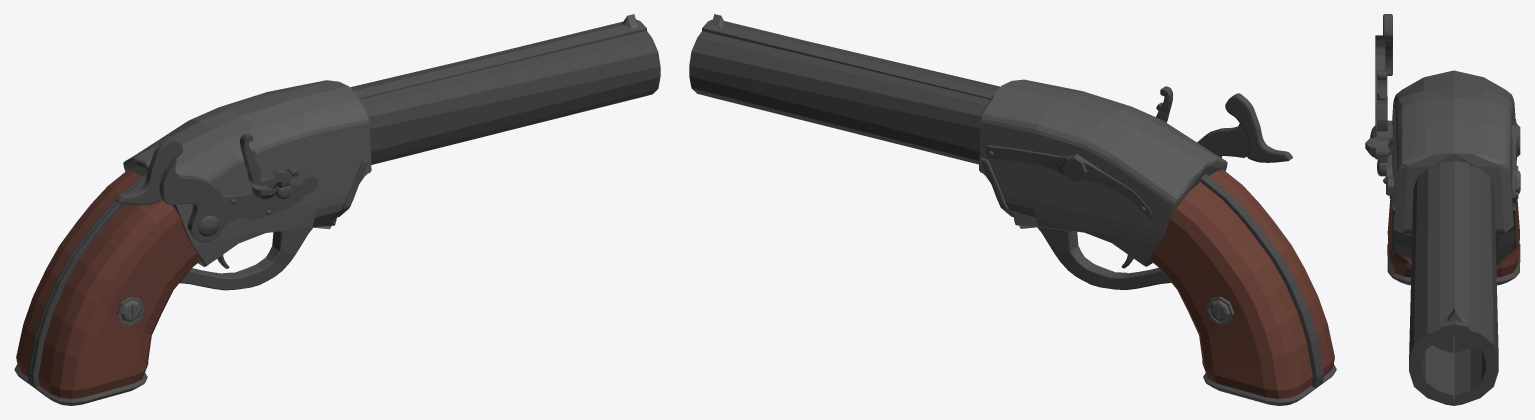
Rendered from pistol.fbx.
3 renders of one model, left to right at view 1: azimuth 30°, elevation 25°; view 2: azimuth 150°, elevation 25°; view 3: azimuth 270°, elevation 25°, orthographic. The views are drawn at different scales.
Parts seen in each view (by area): view 1: Cube, Cube.002, Cube.015, Cube.016, Cube.012, Cube.001, Cube.005, Cube.009, Cube.006, Cube.011, Cylinder; view 2: Cube.002, Cube, Cube.015, Cube.016, Cube.012, Cube.001, Circle, Cube.006, Cube.005, Cylinder; view 3: Cube.015, Cube.002, Cube.016, Cube, Cube.011, Cube.005, Cube.006, Cube.012, Circle, Cube.009, Cube.013, Sphere.001 (+1 smaller).
Part boxes in pixels (left/top/right/bottom): Cube: left=16, top=170, right=199, bottom=398; Cube.002: left=123, top=80, right=371, bottom=266; Cube.015: left=350, top=31, right=660, bottom=164; Cube.016: left=351, top=19, right=646, bottom=99; Cube.012: left=14, top=174, right=147, bottom=405; Cube.001: left=179, top=227, right=312, bottom=290; Cube.005: left=159, top=157, right=226, bottom=242; Cube.009: left=222, top=175, right=317, bottom=226; Cube.006: left=115, top=136, right=183, bottom=205; Cube.011: left=240, top=132, right=298, bottom=199; Cylinder: left=116, top=297, right=144, bottom=325; Cube.002: left=979, top=79, right=1227, bottom=266; Cube: left=1151, top=169, right=1334, bottom=398; Cube.015: left=689, top=31, right=1000, bottom=164; Cube.016: left=702, top=19, right=998, bottom=99; Cube.012: left=1200, top=174, right=1336, bottom=405; Cube.001: left=1037, top=227, right=1171, bottom=289; Circle: left=985, top=145, right=1151, bottom=219; Cube.006: left=1225, top=93, right=1292, bottom=162; Cube.005: left=1197, top=123, right=1248, bottom=157; Cylinder: left=1206, top=296, right=1234, bottom=325; Cube.015: left=1409, top=165, right=1498, bottom=405; Cube.002: left=1392, top=70, right=1516, bottom=264; Cube.016: left=1440, top=161, right=1469, bottom=329; Cube: left=1387, top=198, right=1519, bottom=277; Cube.011: left=1375, top=70, right=1389, bottom=176; Cube.005: left=1375, top=35, right=1385, bottom=159; Cube.006: left=1383, top=14, right=1392, bottom=75; Cube.012: left=1387, top=244, right=1520, bottom=285; Circle: left=1512, top=119, right=1520, bottom=202; Cube.009: left=1385, top=120, right=1393, bottom=196; Cube.013: left=1390, top=207, right=1517, bottom=260; Sphere.001: left=1365, top=137, right=1393, bottom=158.
Size of the model in its own units: 489 by 191 by 93.88.
